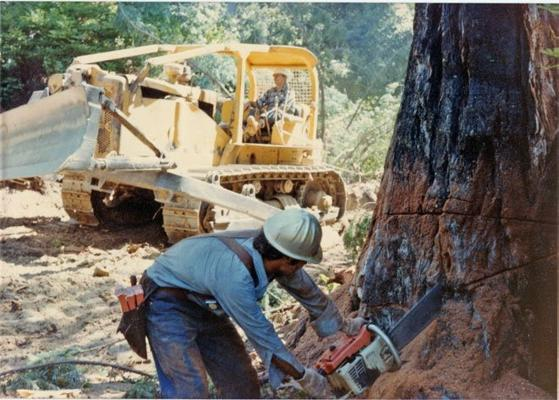person: (116, 208, 370, 400)
